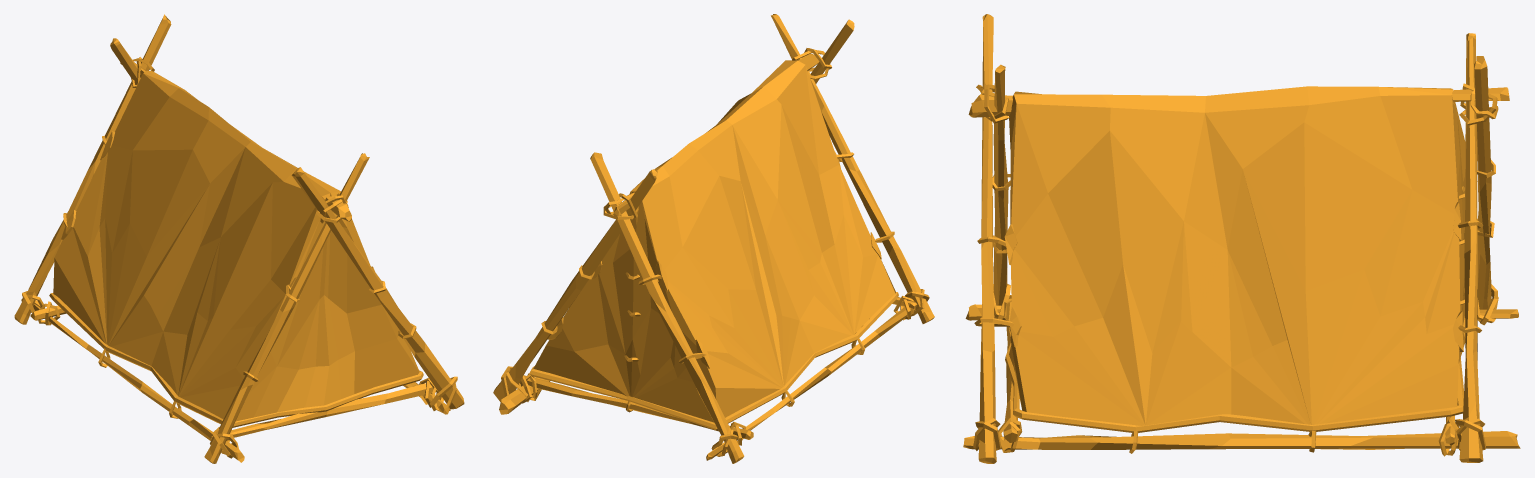
Rendered from SM_Tent_Norseman_Plain_Closed_Fantasy.fbx.
3 views of the same model, side by side, from view 1: azimuth 30°, elevation 25°; view 2: azimuth 150°, elevation 25°; view 3: azimuth 270°, elevation 25° (orthographic). The views are drawn at different scales.
Parts seen in each view (by area): view 1: tent-norseman-plain-closed-fantasy; view 2: tent-norseman-plain-closed-fantasy; view 3: tent-norseman-plain-closed-fantasy.
Boxes of the visible parts, x1,y1,x2,y2 form: tent-norseman-plain-closed-fantasy: (14,14,464,463); tent-norseman-plain-closed-fantasy: (493,14,934,463); tent-norseman-plain-closed-fantasy: (963,14,1520,463).
Size of the model in its own units: 2.12 by 2.27 by 3.2.
